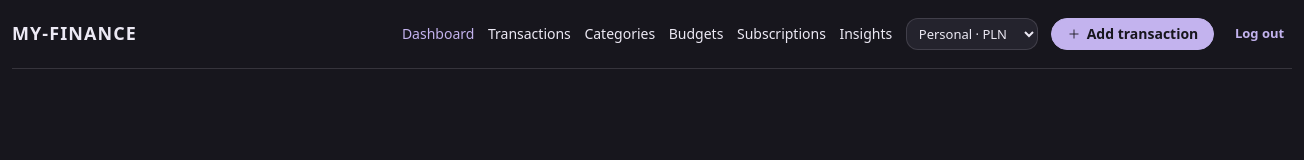
Scenario: a failed profile switch shows the server message
Select "Company · EUR" in the dropdown named "Active profile" at (972, 34), box [906, 18, 1038, 50]
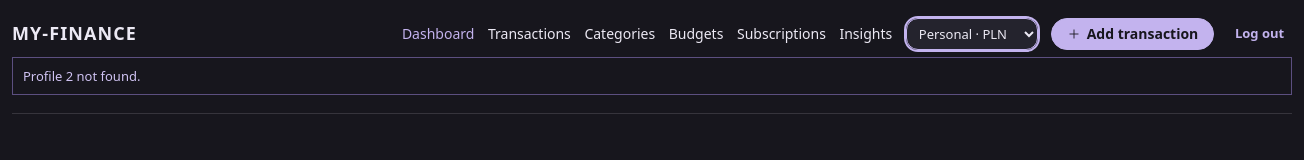
Expected: the message reads "Profile 2 not found.", [23, 67, 140, 85]
